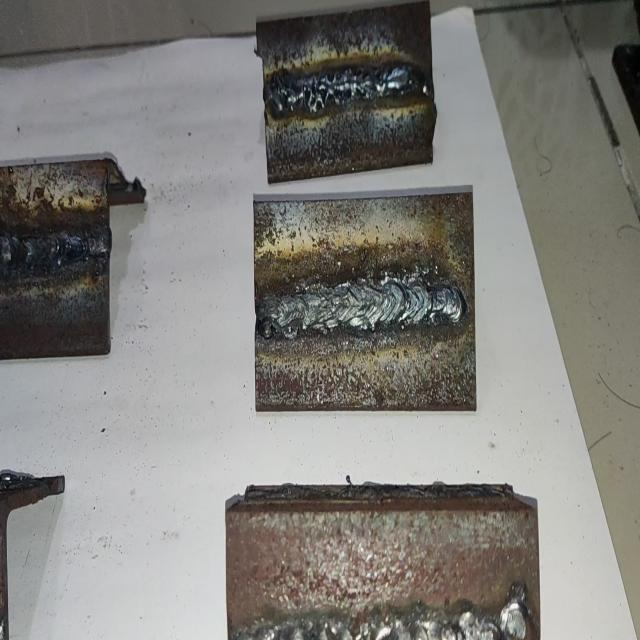Bad Weld: (263, 61, 430, 114), (0, 224, 108, 280)
Defect: (260, 67, 378, 116), (15, 231, 110, 274)
Good Weld: (253, 592, 534, 640), (257, 279, 470, 334)
